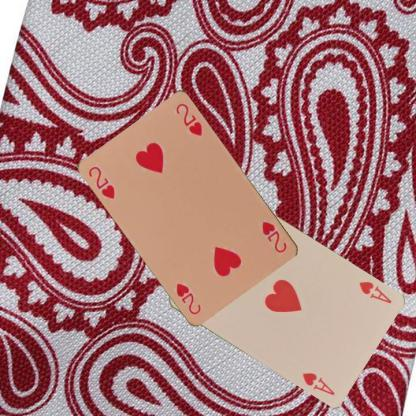2h: (86, 164, 117, 200), (259, 217, 288, 254)
Ah: (356, 279, 392, 305)
